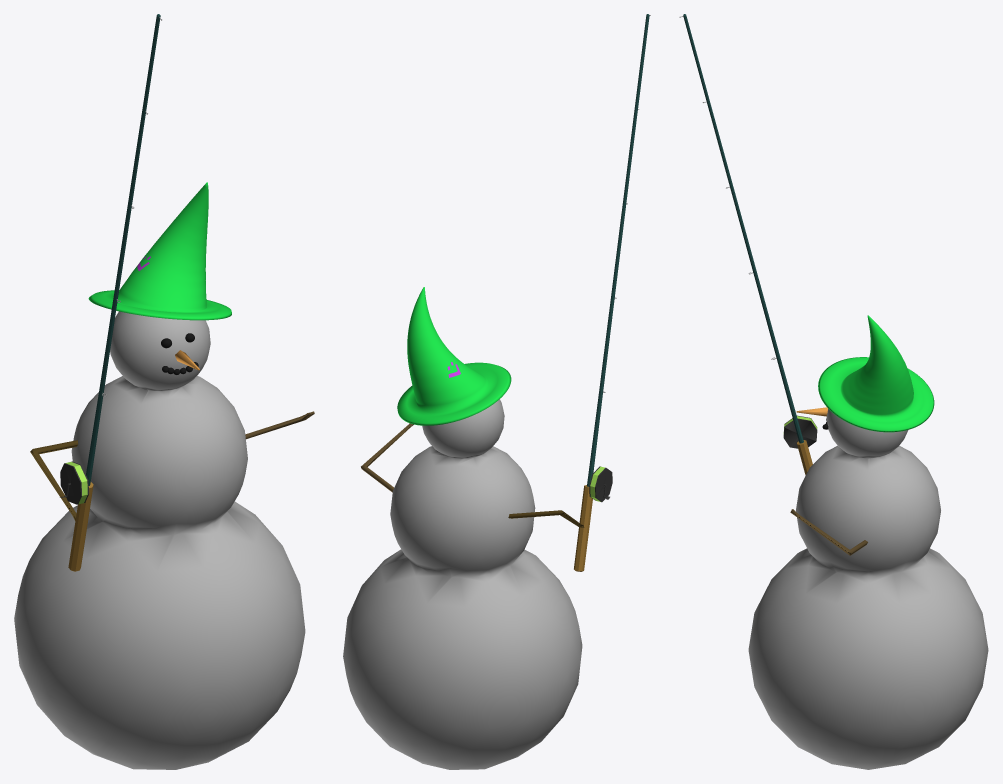
Rendered from fisherman.glb.
3 renders of one model, left to right at view 1: azimuth 30°, elevation 25°; view 2: azimuth 150°, elevation 25°; view 3: azimuth 270°, elevation 25°, orthographic. The views are drawn at different scales.
Visible parts, largest first — view 1: snowman, wizard_hat, arm_right, face; view 2: snowman, wizard_hat, arm_right; view 3: snowman, wizard_hat, arm_right.
Boxes of the visible parts, x1=… form: snowman: x1=14, y1=311, x2=305, y2=769; wizard_hat: x1=88, y1=182, x2=231, y2=320; arm_right: x1=30, y1=14, x2=161, y2=571; face: x1=161, y1=333, x2=199, y2=374; snowman: x1=343, y1=399, x2=582, y2=769; wizard_hat: x1=397, y1=287, x2=511, y2=425; arm_right: x1=508, y1=14, x2=650, y2=571; snowman: x1=748, y1=409, x2=988, y2=769; wizard_hat: x1=818, y1=315, x2=934, y2=432; arm_right: x1=679, y1=14, x2=817, y2=475.
Bounding box in the file's own units: 2.15 × 6.43 × 2.57.
